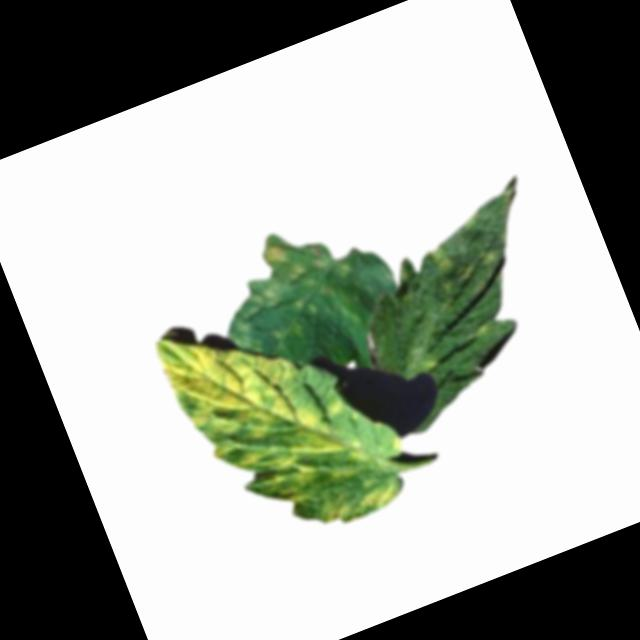Leaf_Mold: (150, 274, 421, 566), (231, 224, 341, 315), (466, 241, 508, 276), (423, 237, 457, 275)
